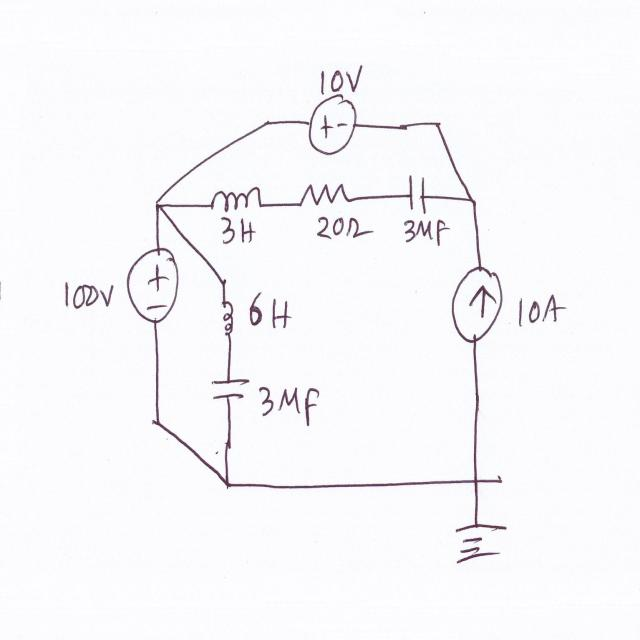capacitor: (204, 367, 256, 406), (402, 162, 436, 217)
current_source: (448, 258, 506, 352)
ground: (451, 514, 514, 567)
inductor: (206, 180, 266, 218), (214, 291, 242, 352)
resistor: (293, 176, 362, 214)
voltage_source: (122, 236, 182, 332), (302, 94, 364, 158)
